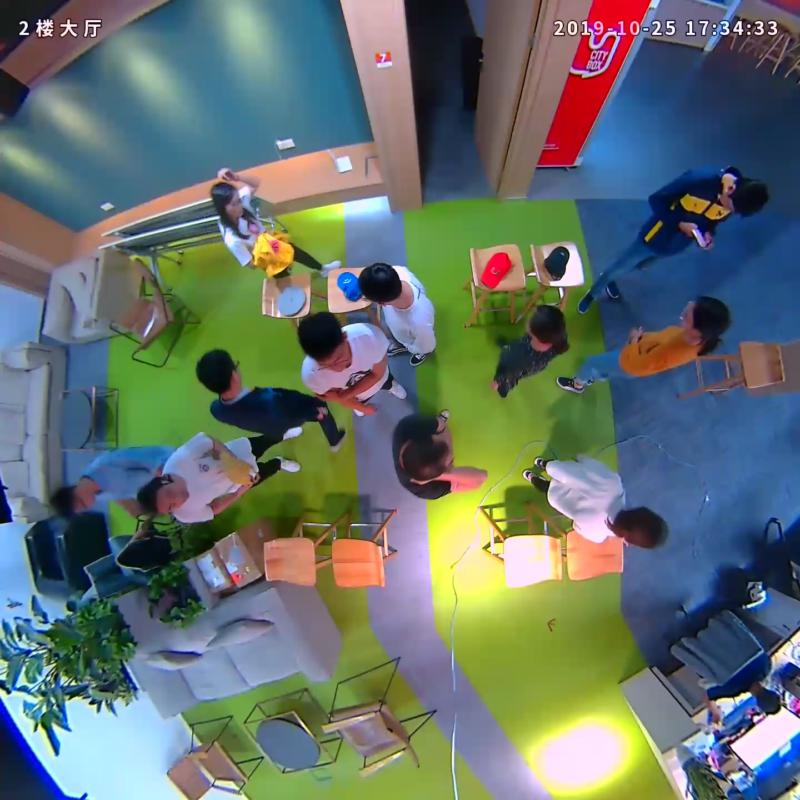head: (297, 310, 348, 371), (614, 505, 668, 550), (402, 434, 454, 480), (681, 294, 731, 341), (137, 475, 190, 516), (195, 348, 240, 396), (719, 176, 770, 217), (357, 262, 404, 306), (50, 483, 97, 519), (526, 304, 566, 345), (211, 182, 244, 217)
